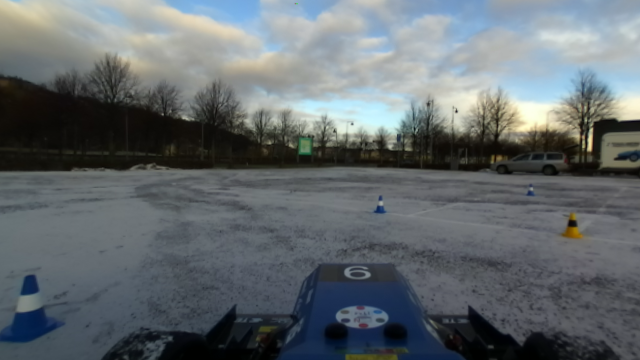blue: (369, 192, 387, 216), (523, 181, 537, 197)
yellow: (556, 208, 586, 240)
